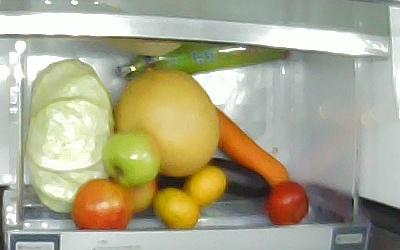cabbage: (27, 59, 117, 212)
carrot: (212, 101, 288, 186)
eggplant: (153, 156, 275, 201)
pear: (118, 68, 222, 177)
tangerine: (151, 188, 201, 229), (181, 166, 227, 207)
tomato: (103, 130, 161, 186), (71, 179, 130, 231), (265, 179, 310, 225)
zucchini: (117, 42, 288, 79)
